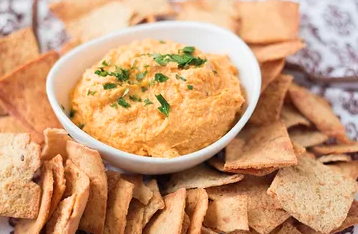sushi: (42, 19, 262, 176)
